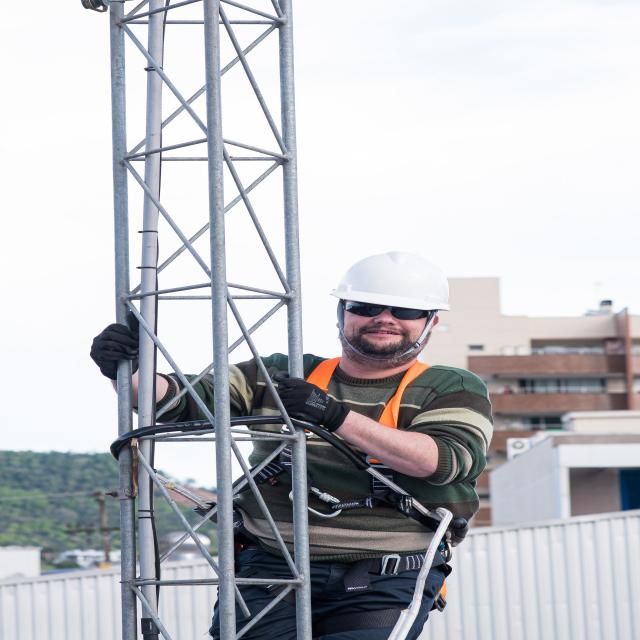capacete: (327, 248, 455, 314)
corda de vida: (226, 346, 464, 638)
luva: (263, 364, 354, 439), (84, 309, 155, 382)
